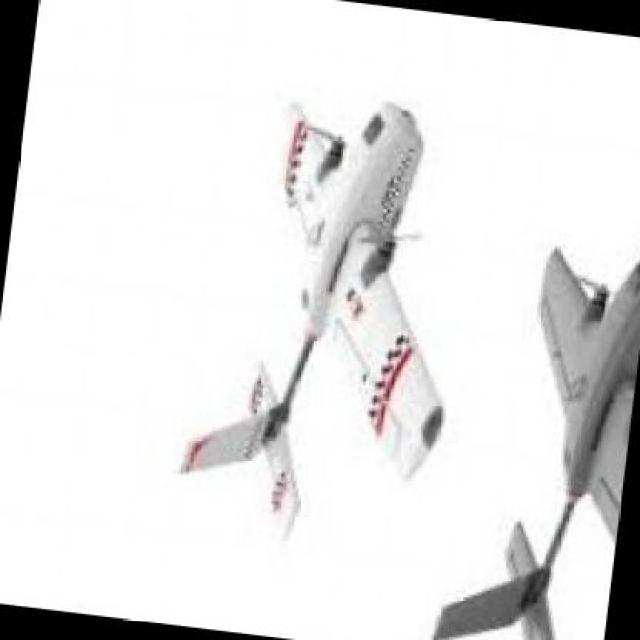iha: (175, 92, 451, 544)
